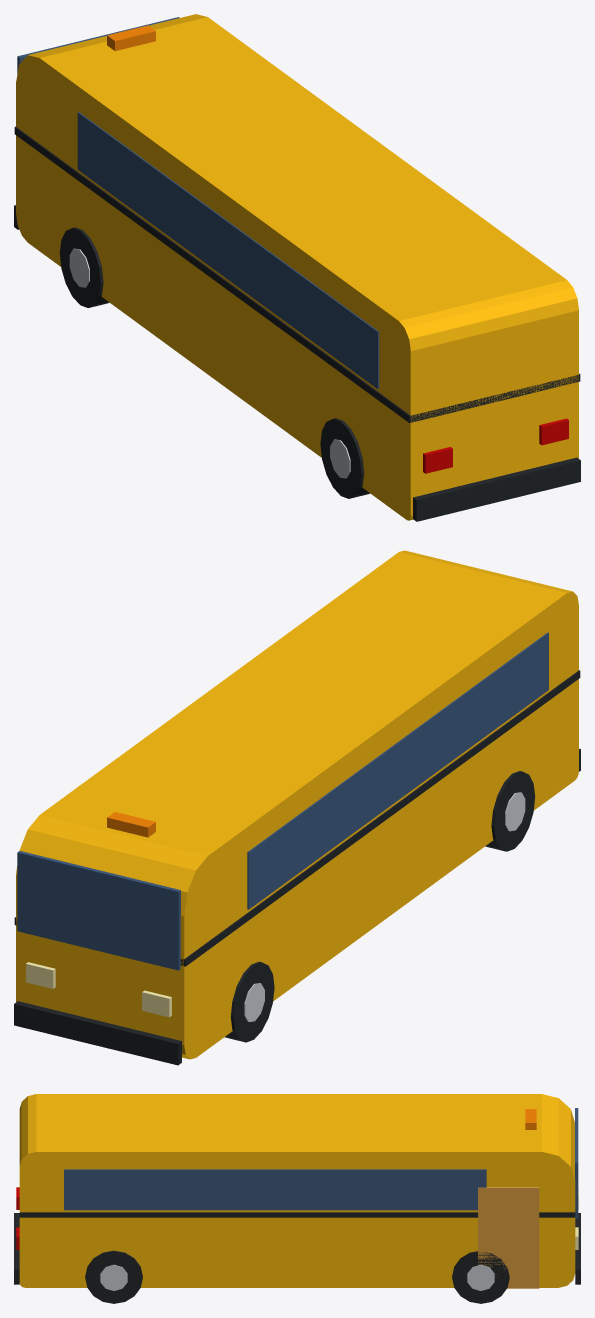
The model's file is sc_school_bus.glb.
3 renders of one model, top to bottom at view 1: azimuth 30°, elevation 25°; view 2: azimuth 150°, elevation 25°; view 3: azimuth 270°, elevation 25°, orthographic. The views are drawn at different scales.
Parts seen in each view (by area): view 1: prism, Cube, Cube.002, Cube.008, Cylinder.002, Cylinder, Cube.009, Cube.004, Cube.006; view 2: prism, Cube, Cube.001, Cube.007, Cube.002, Cylinder.002, Cylinder, Cube.009; view 3: prism, Cube, Cube.010, Cube.002, Cylinder.004, Cylinder.006, Cylinder.005, Cylinder.007, Cube.001, Cube.008, Cube.007.
Part boxes in pixels (<box>): prism: <box>16,14,578,520</box>; Cube: <box>77,112,379,389</box>; Cube.002: <box>14,126,580,422</box>; Cube.008: <box>413,457,580,521</box>; Cylinder.002: <box>59,227,109,307</box>; Cylinder: <box>320,418,369,498</box>; Cube.009: <box>107,25,155,50</box>; Cube.004: <box>423,447,452,473</box>; Cube.006: <box>539,418,568,445</box>; prism: <box>16,550,578,1059</box>; Cube: <box>247,632,548,909</box>; Cube.001: <box>17,851,180,970</box>; Cube.007: <box>14,1001,181,1065</box>; Cube.002: <box>14,670,580,966</box>; Cylinder.002: <box>225,961,274,1042</box>; Cylinder: <box>485,771,535,851</box>; Cube.009: <box>107,812,155,837</box>; prism: <box>19,1094,575,1287</box>; Cube: <box>64,1169,486,1210</box>; Cube.010: <box>478,1187,539,1288</box>; Cube.002: <box>19,1212,575,1217</box>; Cylinder.004: <box>85,1250,142,1303</box>; Cylinder.006: <box>452,1251,509,1303</box>; Cylinder.005: <box>100,1264,127,1290</box>; Cylinder.007: <box>467,1264,494,1290</box>; Cube.001: <box>575,1108,578,1218</box>; Cube.008: <box>14,1213,19,1284</box>; Cube.007: <box>575,1213,580,1284</box>.
Size of the model in its own units: 257 by 314 by 1020.
